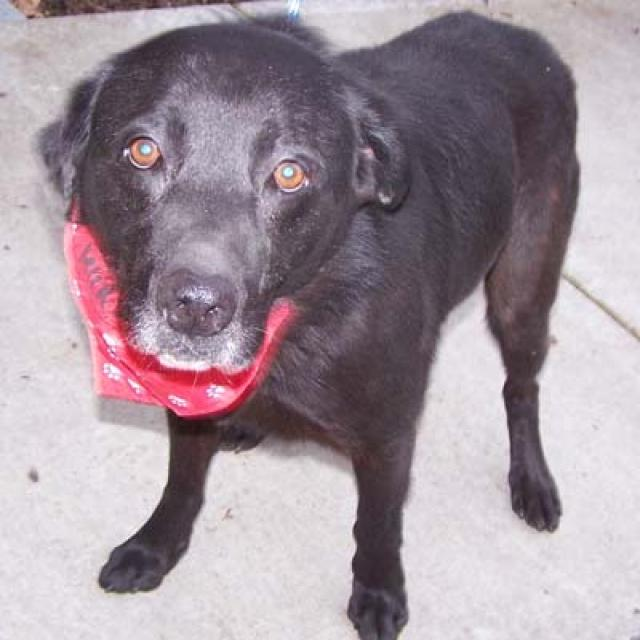Dogs: (35, 5, 582, 638)
